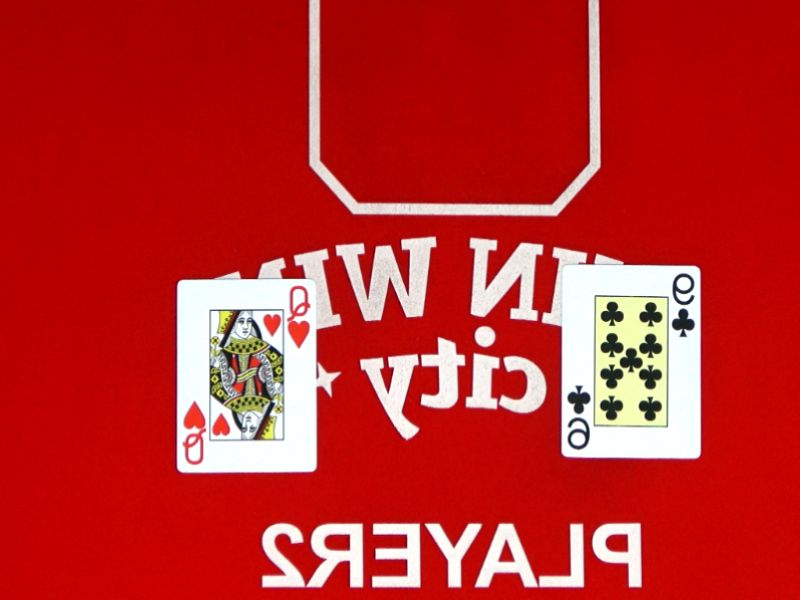9C: (540, 382, 619, 454), (647, 271, 724, 342)
QH: (261, 283, 336, 350), (153, 399, 228, 466)
